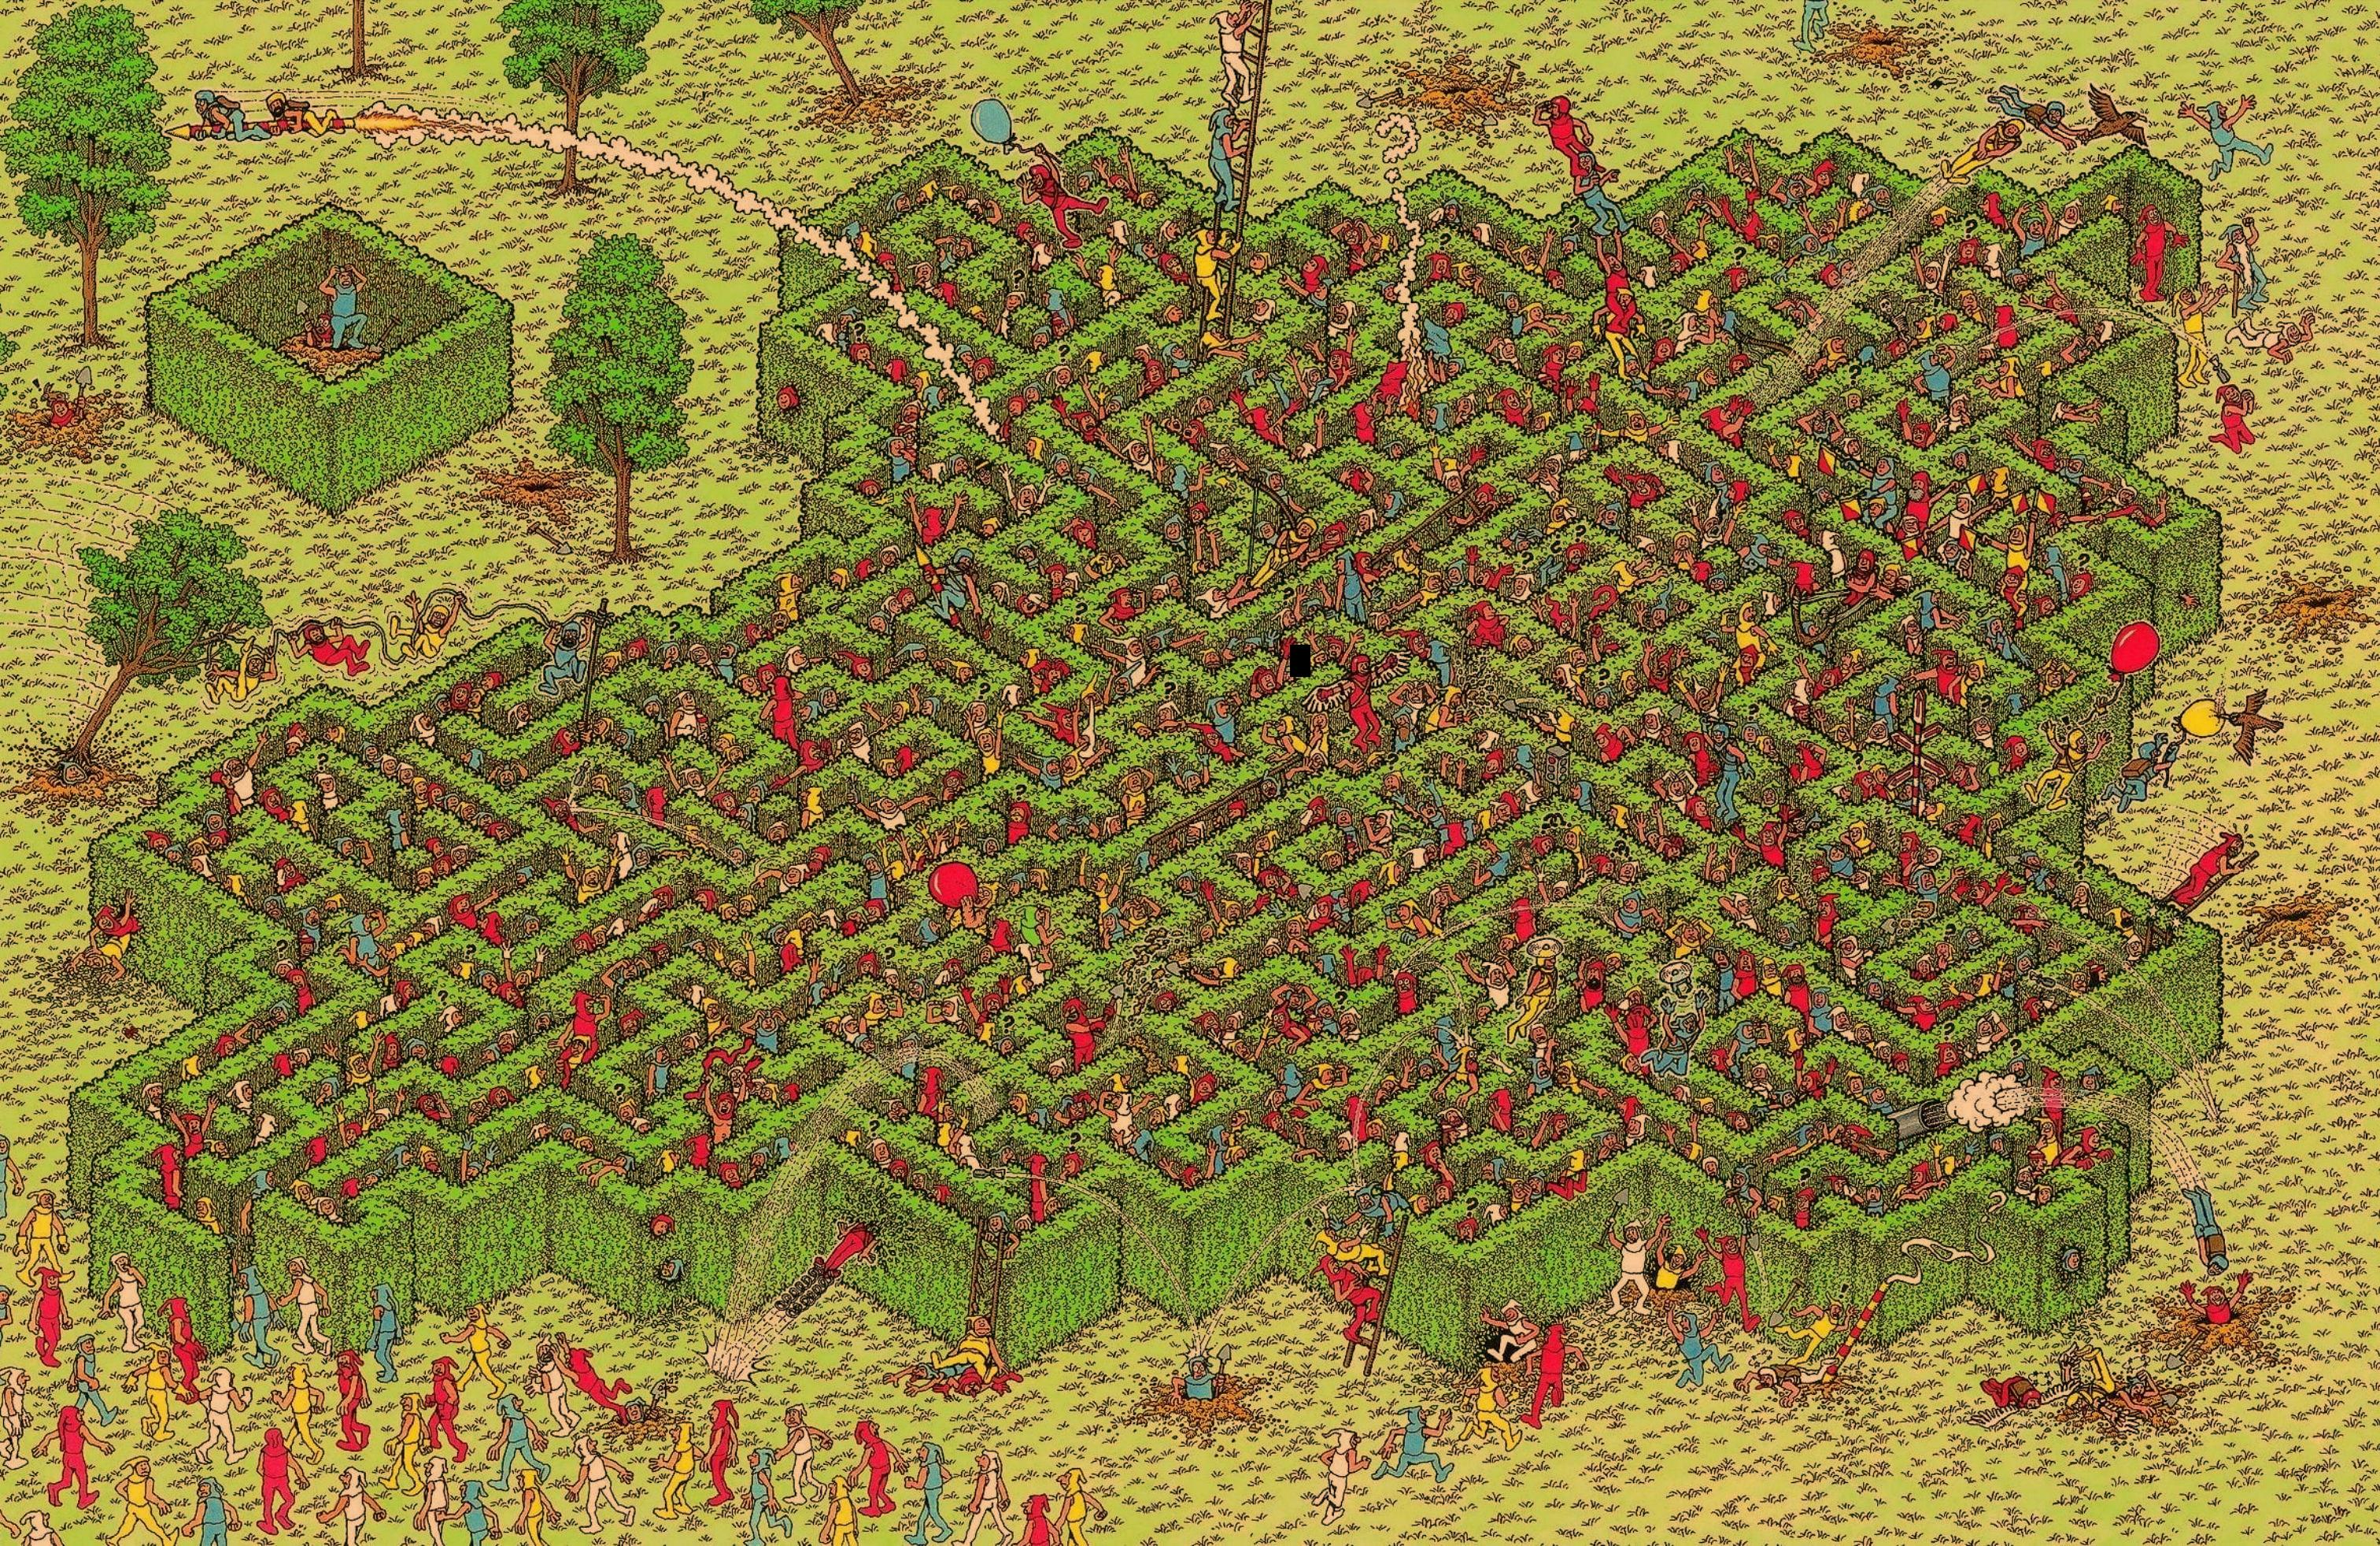waldos: (1513, 838, 1533, 871)
